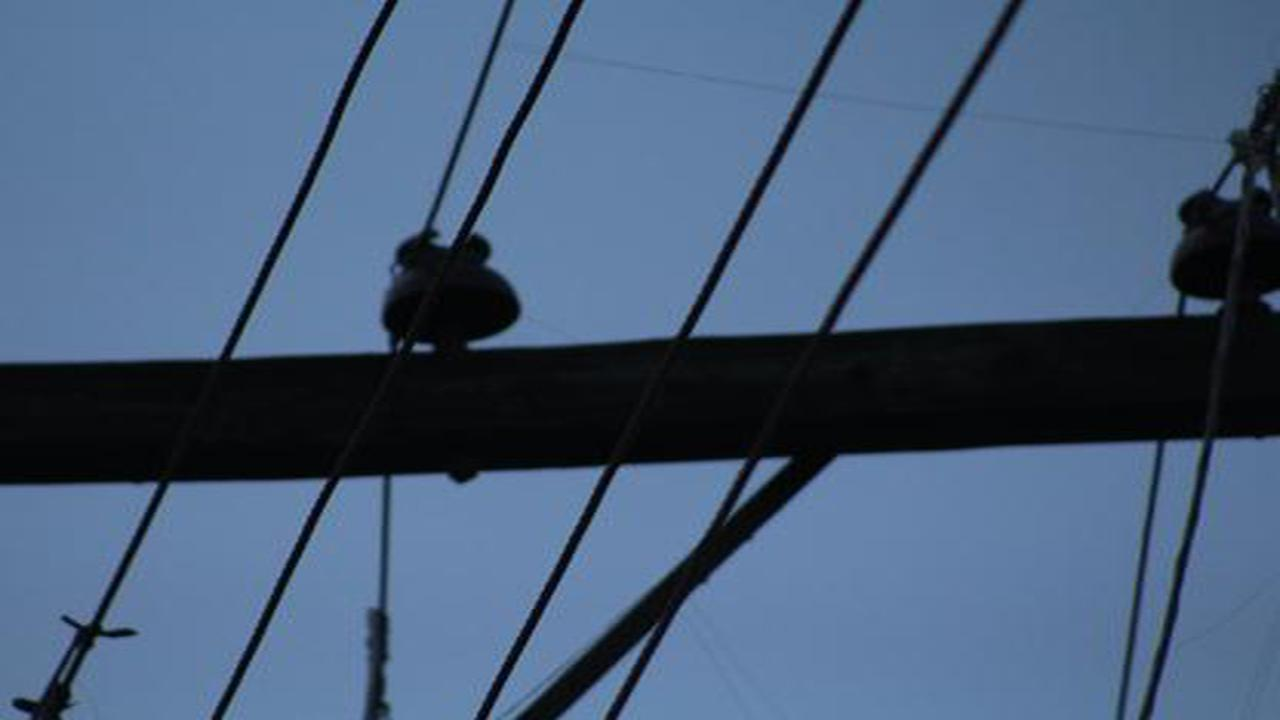insulator_pin: (381, 224, 529, 356), (1164, 179, 1266, 308)
